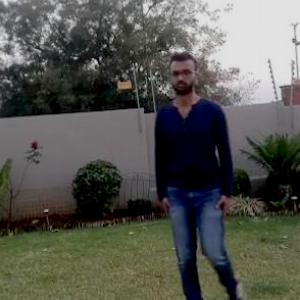follow: (148, 53, 231, 299)
